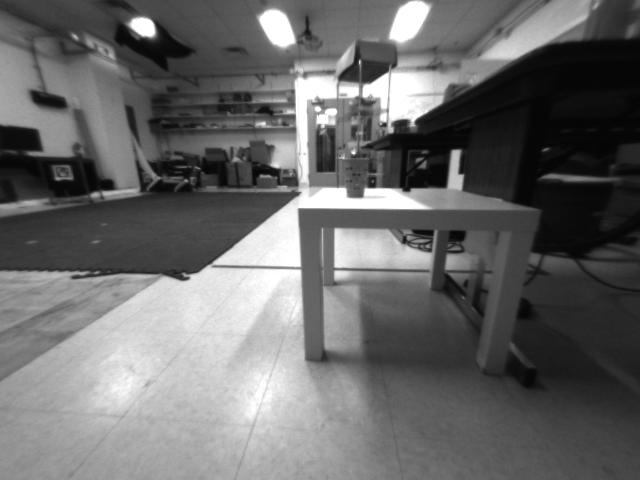coffee_cup: (340, 158, 371, 198)
